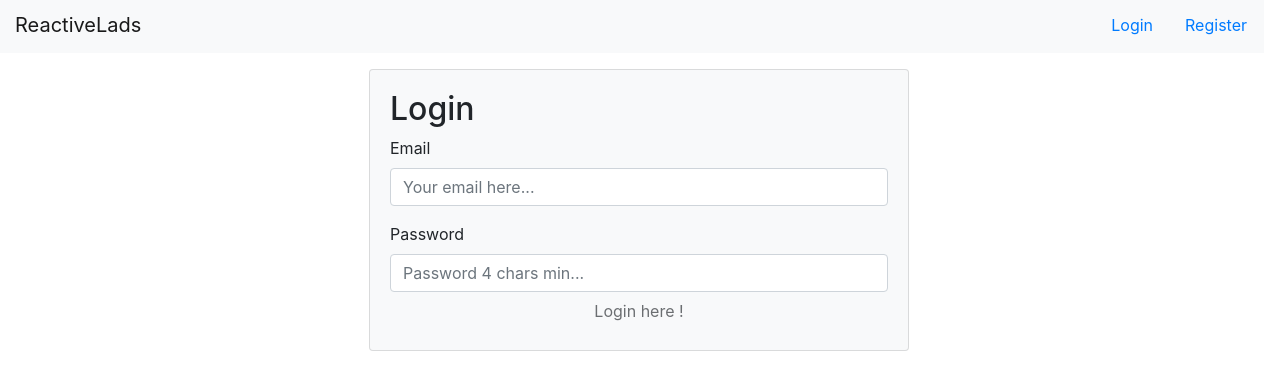
Test: <LoginForm/> e2e › Fields validation › Email field validation › should validate empty email field on blur
Focus the field named "email" at (639, 187), box [390, 168, 888, 206]
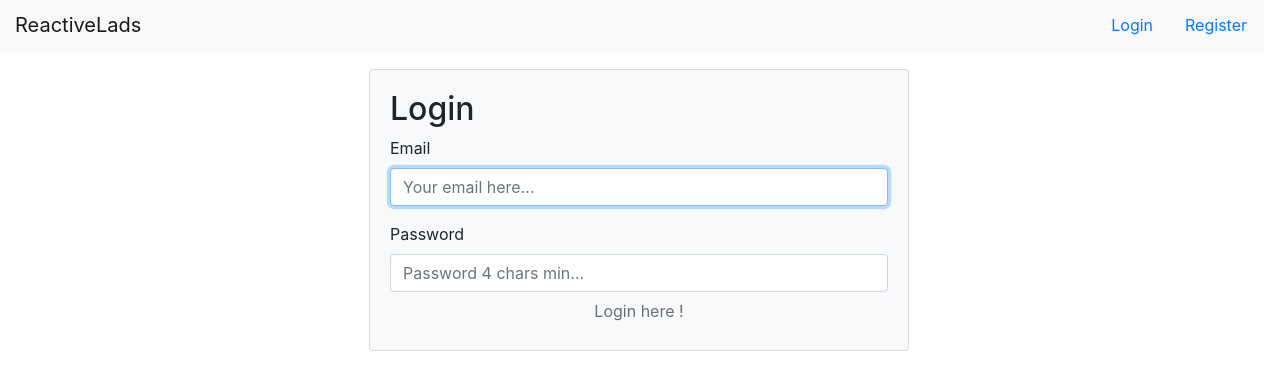
Leave the field named "email", box [390, 168, 888, 206]
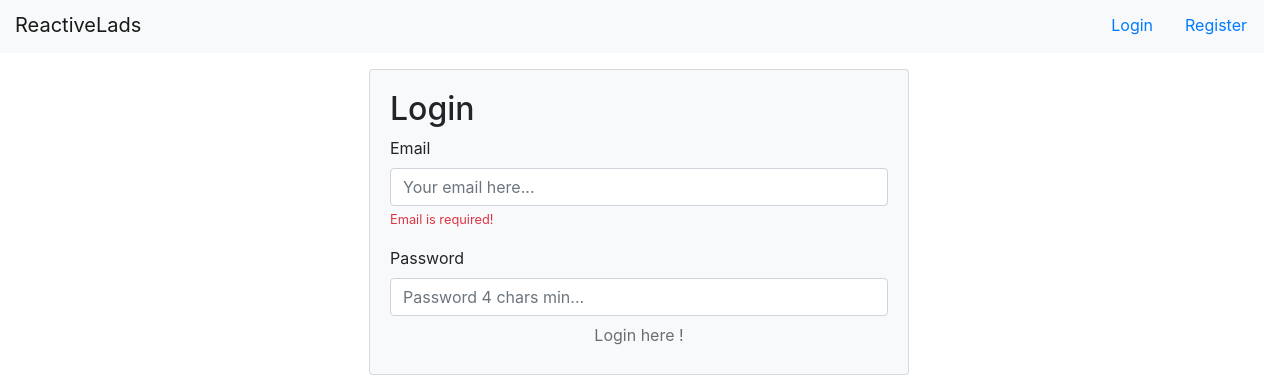
Result: the text "Email is required!" is shown at [390, 212, 494, 227]
